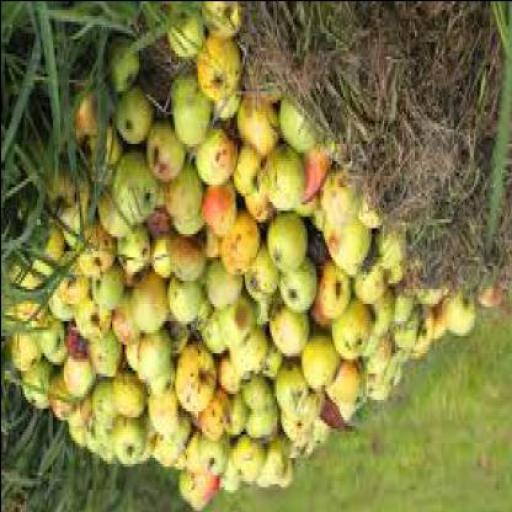biodegradable: (168, 70, 211, 152), (114, 148, 158, 227), (176, 340, 218, 419), (198, 35, 246, 104), (263, 146, 308, 215), (238, 98, 283, 160), (80, 125, 124, 186), (73, 76, 113, 142), (281, 94, 321, 160), (196, 128, 238, 190), (331, 302, 373, 364), (114, 87, 156, 148), (270, 300, 312, 361), (220, 212, 260, 276), (321, 175, 360, 239), (266, 218, 310, 273), (166, 233, 209, 288), (276, 361, 314, 422), (220, 293, 260, 349), (326, 227, 371, 276), (315, 268, 351, 329), (303, 337, 342, 393), (113, 367, 152, 422), (32, 215, 70, 271), (132, 279, 168, 338), (247, 241, 281, 303), (203, 183, 238, 242), (329, 363, 364, 422), (106, 38, 141, 96), (166, 160, 201, 218), (281, 265, 317, 320), (179, 463, 219, 511), (80, 230, 118, 280), (366, 288, 395, 352), (91, 262, 126, 314), (233, 332, 268, 383), (168, 277, 202, 329), (209, 262, 244, 312), (156, 422, 191, 472), (89, 332, 124, 381), (138, 338, 173, 387), (113, 419, 148, 468), (172, 12, 206, 61), (231, 149, 263, 201), (195, 436, 231, 481), (374, 226, 410, 271), (75, 303, 115, 343), (374, 303, 414, 343), (147, 393, 183, 437), (96, 195, 128, 244), (233, 440, 267, 486), (38, 311, 68, 363), (113, 297, 142, 349), (63, 355, 95, 402), (58, 204, 88, 253), (7, 294, 47, 329), (24, 364, 54, 410), (208, 3, 245, 40), (242, 382, 280, 418), (9, 256, 49, 290), (200, 314, 230, 358), (446, 297, 476, 341), (411, 310, 435, 364), (353, 268, 387, 306), (200, 399, 232, 439), (393, 311, 422, 355), (218, 351, 246, 396), (244, 410, 280, 445), (50, 376, 77, 422), (263, 434, 287, 485), (61, 261, 88, 306), (307, 154, 331, 204), (365, 372, 399, 407), (14, 331, 41, 375), (213, 85, 245, 122), (317, 402, 351, 436), (283, 405, 313, 442), (151, 236, 175, 282), (93, 384, 116, 431), (365, 338, 394, 375), (150, 366, 177, 404), (254, 291, 279, 332), (82, 419, 111, 454), (194, 290, 216, 335), (244, 192, 273, 226), (424, 303, 447, 343), (229, 395, 249, 439), (173, 206, 202, 236), (48, 294, 75, 326), (147, 210, 172, 244), (65, 326, 88, 361), (231, 396, 250, 436), (170, 328, 193, 360), (292, 194, 318, 222), (310, 239, 332, 271), (360, 242, 380, 276), (480, 288, 506, 314), (203, 227, 222, 262), (144, 419, 160, 460), (268, 340, 284, 381), (360, 210, 385, 236), (217, 471, 241, 498), (70, 404, 92, 430), (418, 289, 447, 308), (397, 346, 412, 381), (306, 396, 324, 425), (280, 462, 296, 492), (310, 422, 328, 448), (156, 177, 170, 209), (123, 349, 138, 378), (185, 439, 197, 474), (388, 268, 404, 291), (286, 439, 301, 463), (70, 431, 86, 448), (102, 453, 122, 466), (266, 90, 282, 104), (302, 443, 312, 462)
